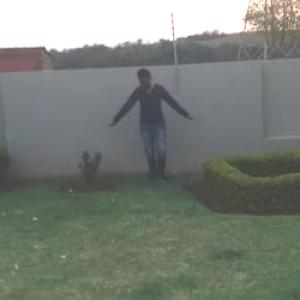land: (103, 57, 197, 188)
